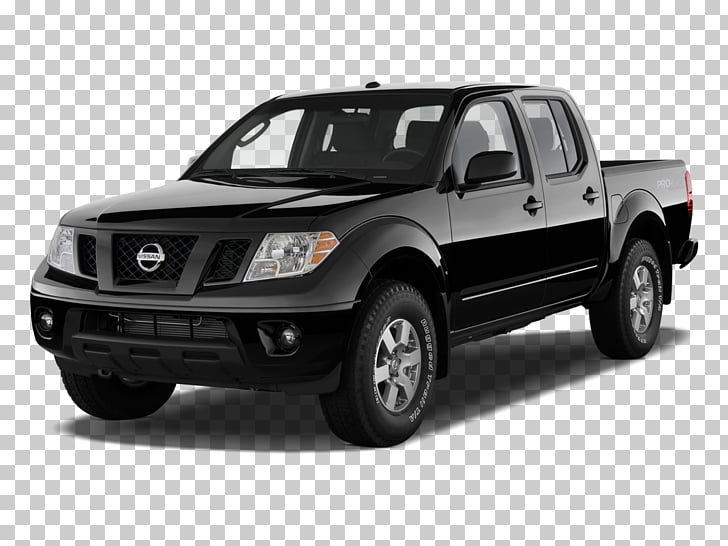pickup: (29, 78, 702, 449)
